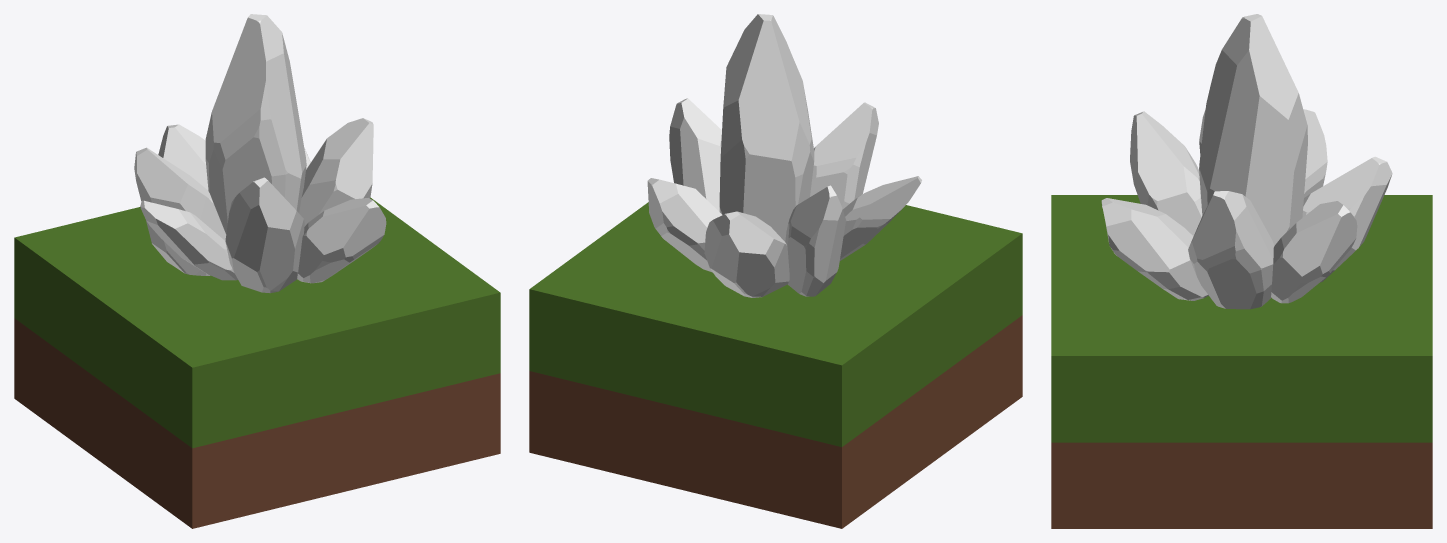
File: Crystal1.fbx
The picture shows the model from 3 angles, left to right: view 1: azimuth 30°, elevation 25°; view 2: azimuth 150°, elevation 25°; view 3: azimuth 270°, elevation 25°; orthographic projection. The views are drawn at different scales.
Visible parts, largest first — view 1: Crystal, CrystalPartCenter, CrystalPart3, CrystalPart2, CrystalPart6, CrystalPart1, CrystalPart7, CrystalPart5; view 2: Crystal, CrystalPartCenter, CrystalPart5, CrystalPart1, CrystalPart3, CrystalPart2, CrystalPart4, CrystalPart7; view 3: Crystal, CrystalPartCenter, CrystalPart2, CrystalPart6, CrystalPart3, CrystalPart4, CrystalPart5, CrystalPart1.
Part boxes in pixels (x1=…): Crystal: x1=14, y1=197, x2=500, y2=528; CrystalPartCenter: x1=205, y1=14, x2=306, y2=233; CrystalPart3: x1=225, y1=177, x2=304, y2=293; CrystalPart2: x1=299, y1=118, x2=373, y2=226; CrystalPart6: x1=297, y1=198, x2=386, y2=283; CrystalPart1: x1=134, y1=147, x2=226, y2=275; CrystalPart7: x1=140, y1=200, x2=237, y2=280; CrystalPart5: x1=158, y1=124, x2=208, y2=189; Crystal: x1=529, y1=202, x2=1022, y2=528; CrystalPartCenter: x1=719, y1=14, x2=814, y2=241; CrystalPart5: x1=704, y1=211, x2=789, y2=297; CrystalPart1: x1=785, y1=185, x2=845, y2=296; CrystalPart3: x1=810, y1=102, x2=878, y2=208; CrystalPart2: x1=669, y1=98, x2=721, y2=211; CrystalPart4: x1=647, y1=178, x2=722, y2=272; CrystalPart7: x1=839, y1=176, x2=921, y2=260; Crystal: x1=1051, y1=195, x2=1432, y2=528; CrystalPartCenter: x1=1199, y1=14, x2=1307, y2=247; CrystalPart2: x1=1188, y1=191, x2=1273, y2=309; CrystalPart6: x1=1101, y1=198, x2=1208, y2=300; CrystalPart3: x1=1130, y1=111, x2=1202, y2=235; CrystalPart4: x1=1271, y1=201, x2=1357, y2=303; CrystalPart5: x1=1302, y1=156, x2=1392, y2=282; CrystalPart1: x1=1303, y1=109, x2=1327, y2=197.
Size of the model in its own units: 100 by 126 by 100.
